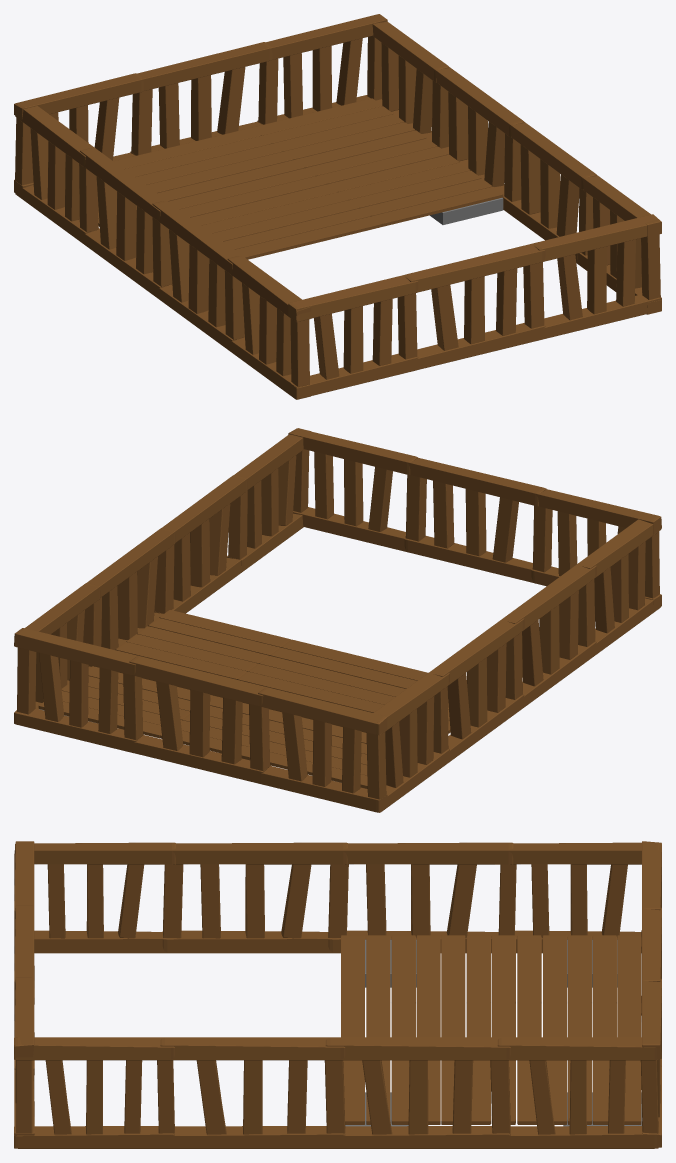
File: SM_StoneQuarry_Construction.fbx
3 renders of one model, top to bottom at view 1: azimuth 30°, elevation 25°; view 2: azimuth 150°, elevation 25°; view 3: azimuth 270°, elevation 25°, orthographic. The views are drawn at different scales.
Visible parts, largest first — view 1: SM_StoneQuarry; view 2: SM_StoneQuarry; view 3: SM_StoneQuarry.
Part boxes in pixels (x1=…): SM_StoneQuarry: x1=14, y1=14, x2=661, y2=399; SM_StoneQuarry: x1=14, y1=428, x2=661, y2=812; SM_StoneQuarry: x1=14, y1=841, x2=661, y2=1148.
Size of what is drawn, in the model's own units: 600 by 805 by 143.
